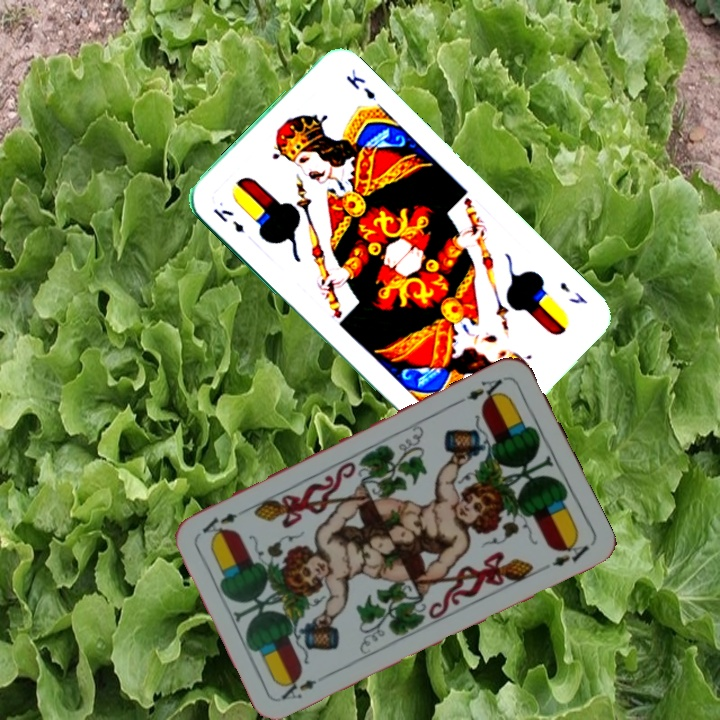EA: (277, 669, 331, 703), (463, 372, 509, 406)
EK: (209, 204, 247, 236), (556, 278, 591, 307)
